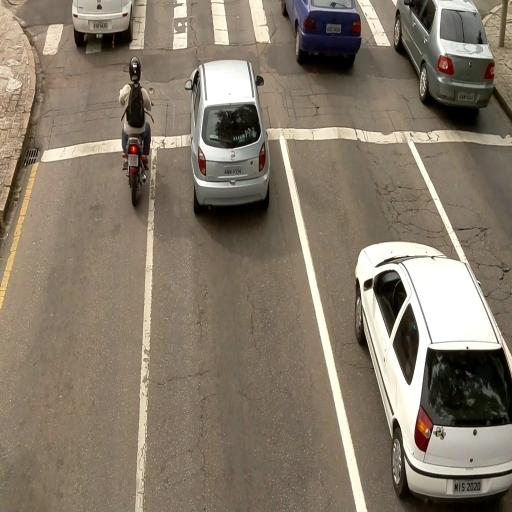car: (354, 244, 512, 503), (187, 58, 270, 214), (391, 2, 494, 110), (280, 2, 362, 70), (71, 1, 135, 48)
motorcycle: (120, 62, 157, 210)
